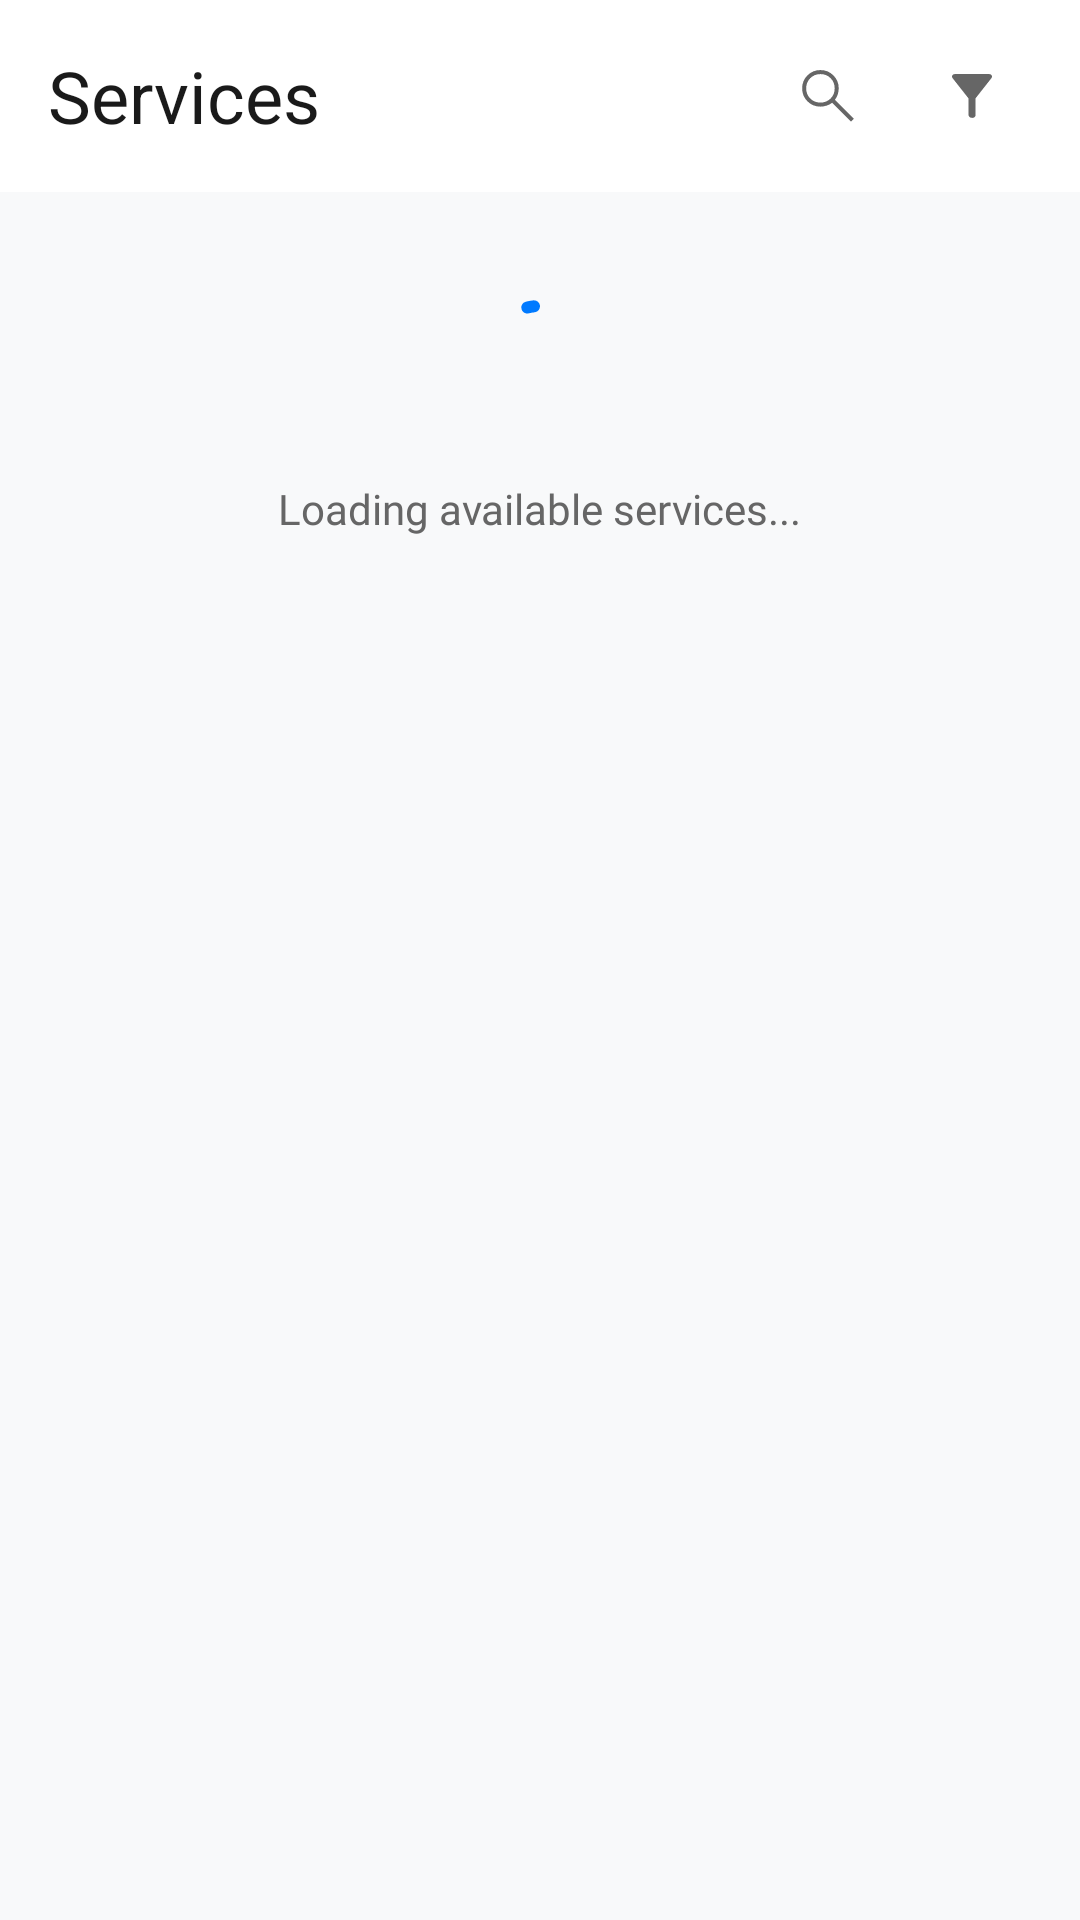

Icon bounding boxes for this 1080px x 1920px phone screenshot, format (x1, y1, x2, y2):
Filter services: (952, 74, 992, 118)
Search services: (802, 70, 854, 122)
